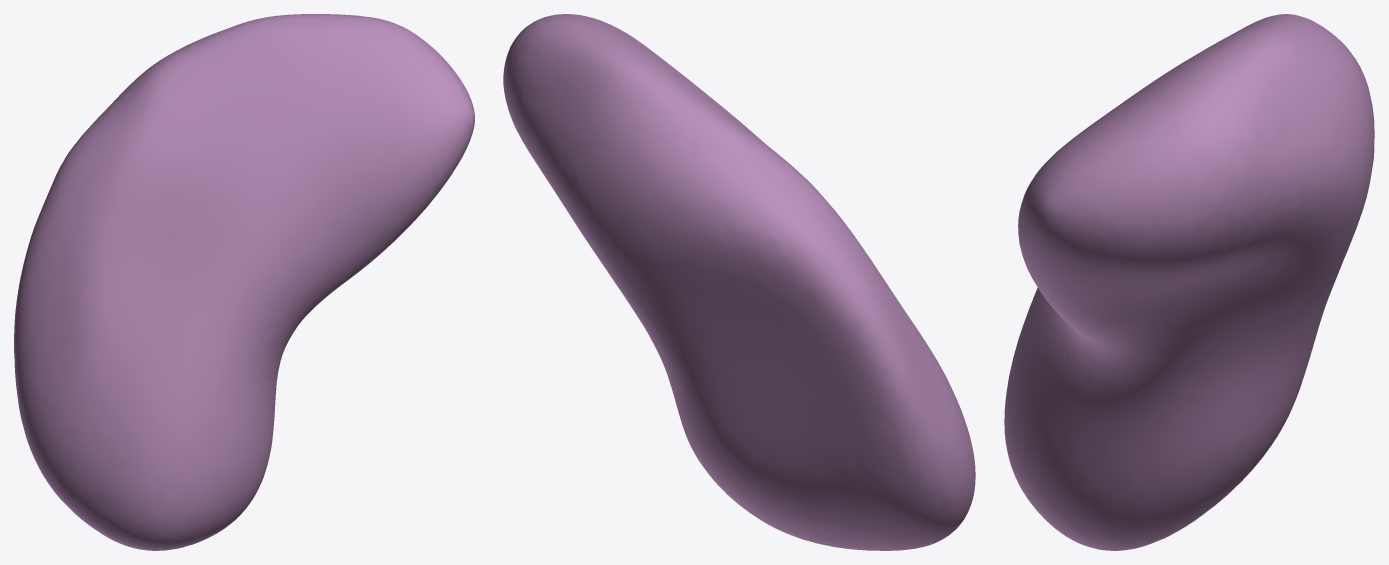
3 views of the same model, side by side, from view 1: azimuth 30°, elevation 25°; view 2: azimuth 150°, elevation 25°; view 3: azimuth 270°, elevation 25° (orthographic). The views are drawn at different scales.
Parts seen in each view (by area): view 1: 右侧二腹小叶; view 2: 右侧二腹小叶; view 3: 右侧二腹小叶.
Boxes of the visible parts, <box> form: 右侧二腹小叶: <box>14,14,474,550</box>; 右侧二腹小叶: <box>503,14,975,550</box>; 右侧二腹小叶: <box>1004,14,1374,550</box>.
Bounding box in the file's own units: 0.0508 × 0.0522 × 0.0295.
